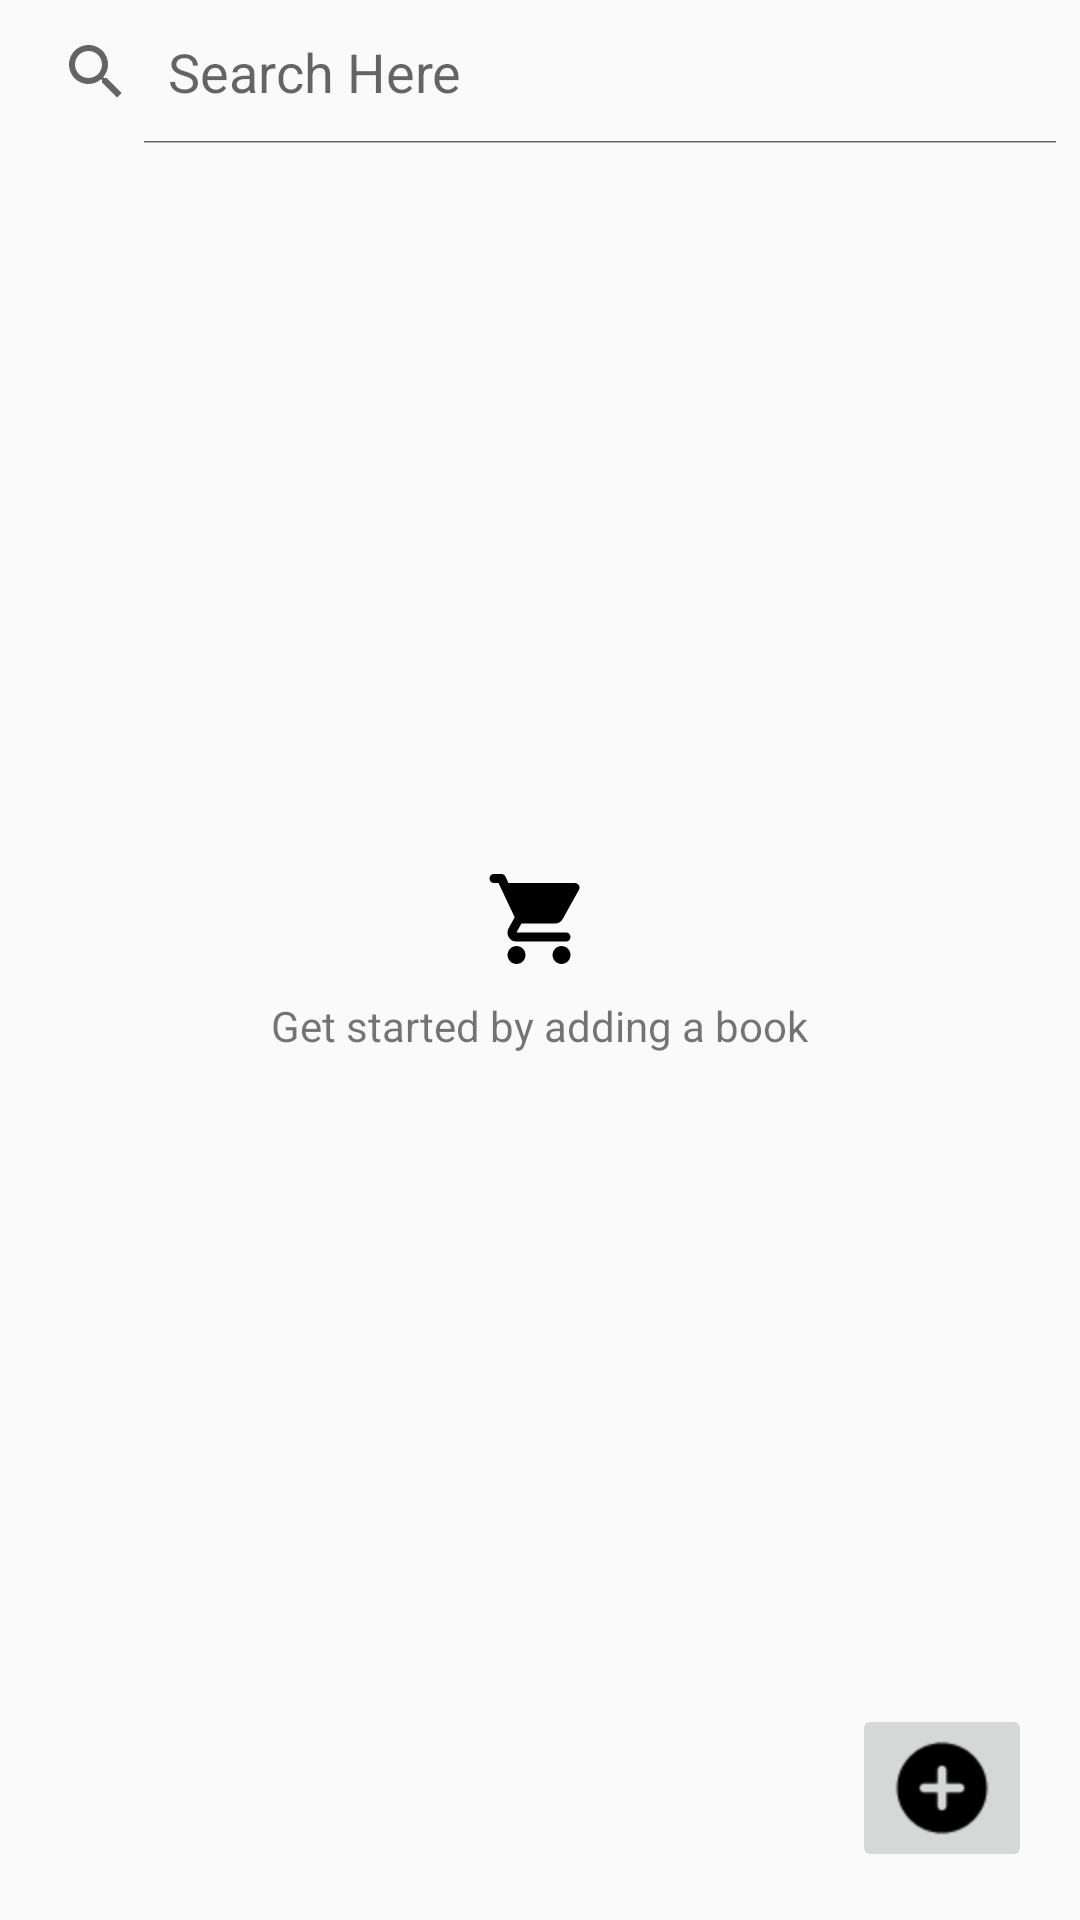

Screen size 1080 x 1920. Icon name, then its box in pixels as (x1, y1, x2, y2):
add product: (864, 1722, 1020, 1854)
